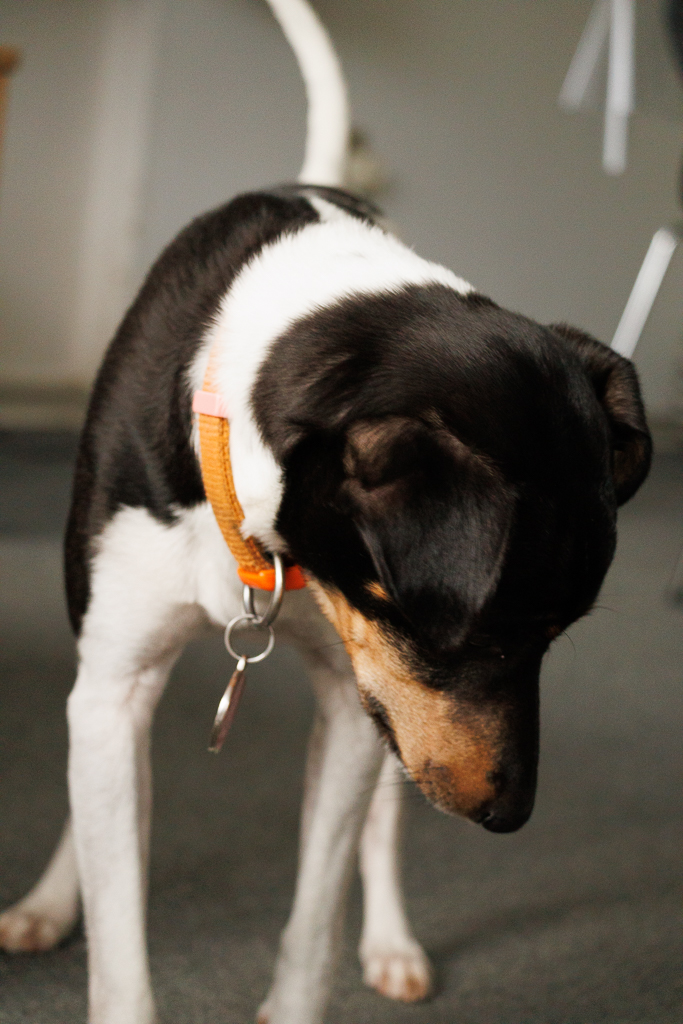Dog: (0, 0, 665, 1024)
